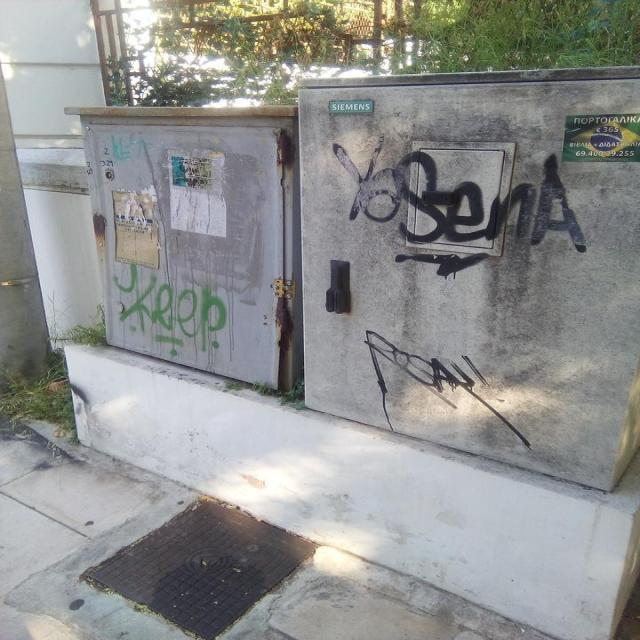nonspitting: (330, 140, 588, 276), (367, 329, 530, 446), (111, 260, 227, 358), (109, 134, 154, 162)
